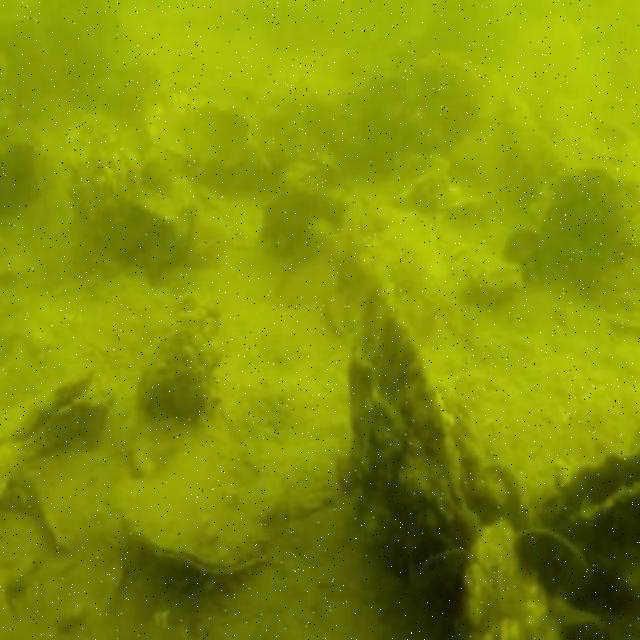Oyster-Closed: (353, 270, 481, 553), (348, 57, 486, 168), (123, 473, 268, 574), (456, 521, 557, 638), (38, 446, 142, 559), (520, 164, 633, 261), (28, 544, 132, 638), (137, 299, 219, 415), (66, 123, 144, 243), (260, 192, 345, 260)
Oyster-Open: (534, 448, 638, 615), (0, 373, 123, 480)
